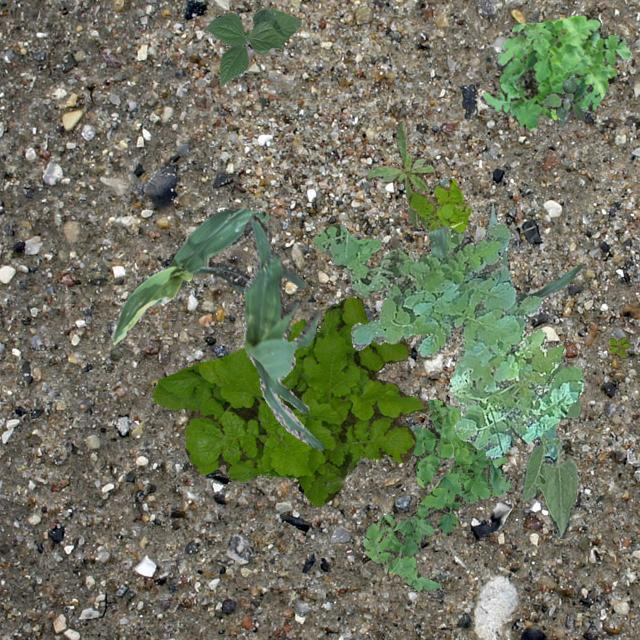crop: (428, 176, 582, 328), (110, 206, 268, 344), (242, 215, 322, 450), (520, 360, 580, 538), (202, 7, 300, 84)
weed: (310, 221, 582, 458), (152, 296, 428, 504), (358, 398, 511, 600), (478, 14, 630, 130), (364, 119, 432, 228), (408, 178, 470, 232), (542, 74, 584, 126), (608, 336, 630, 358)
